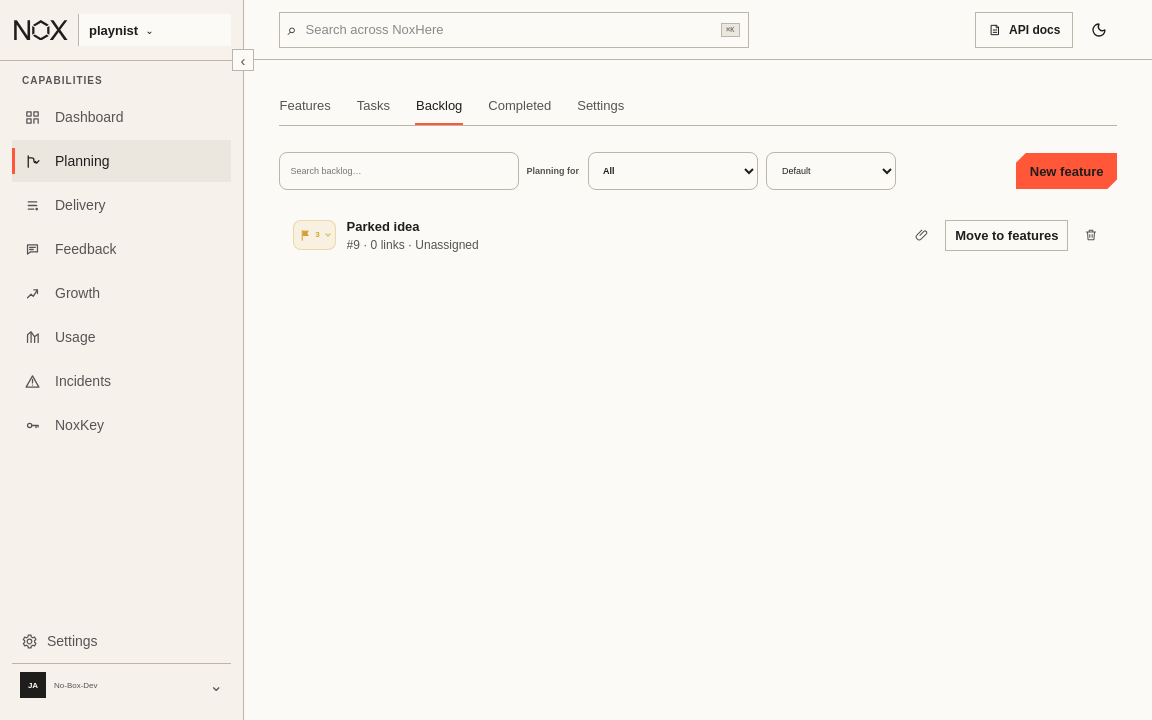
NoxHere API-backed platform › deletes a feature directly from its Backlog row
Click the button named "Delete Parked idea" at (1092, 235), box [1080, 223, 1104, 247]
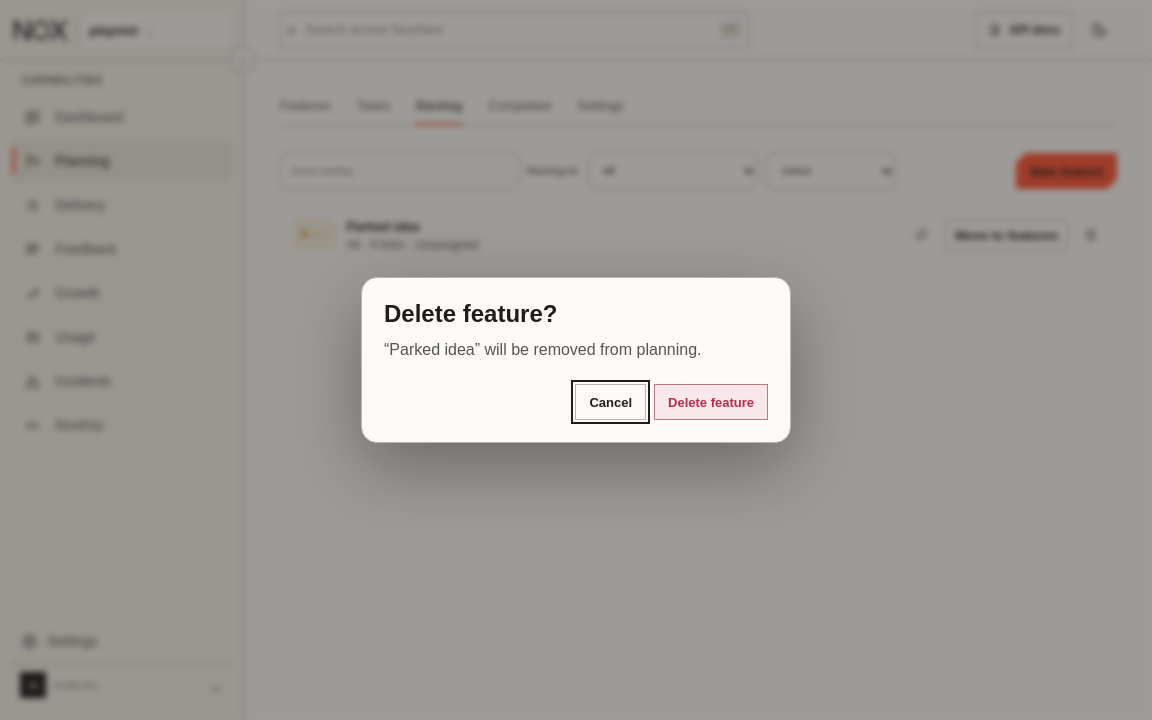
Click the button "Delete feature" at (711, 402), box [654, 384, 768, 420]
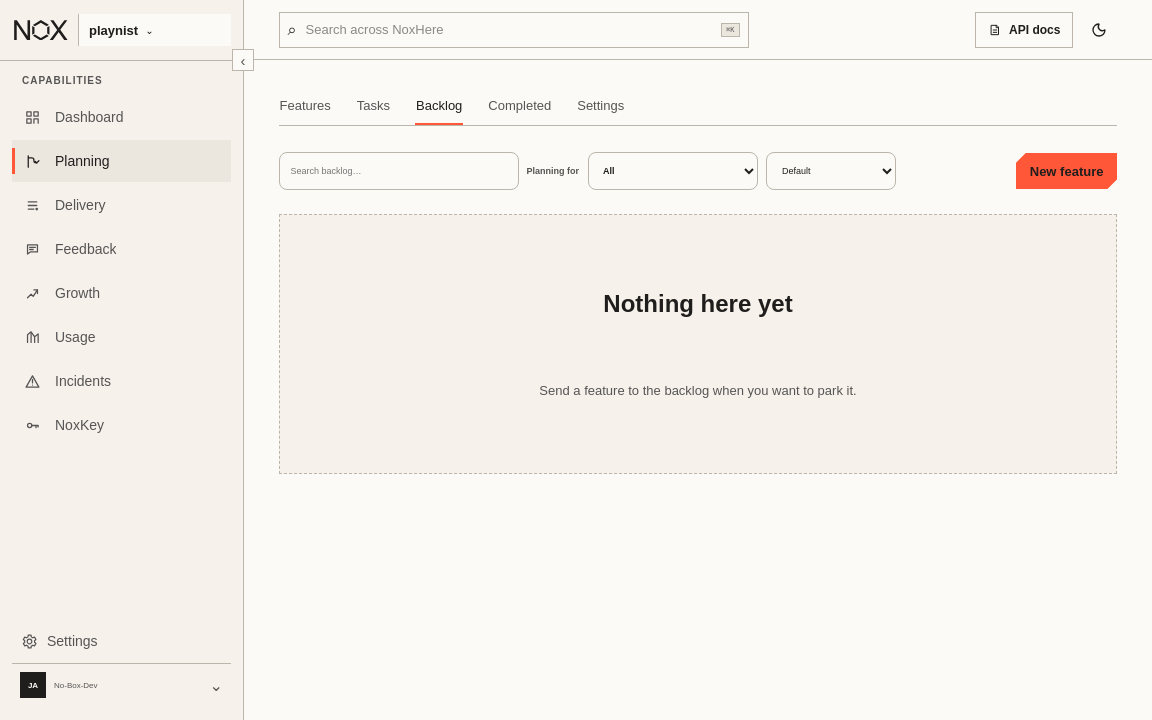
Check: the button "Parked idea" is gone
